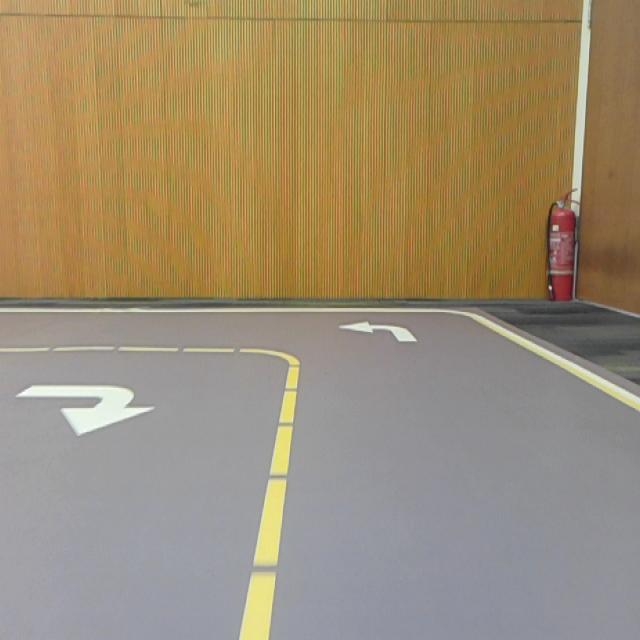left_lane: (238, 366, 298, 639)
right_lane: (465, 314, 639, 413)
